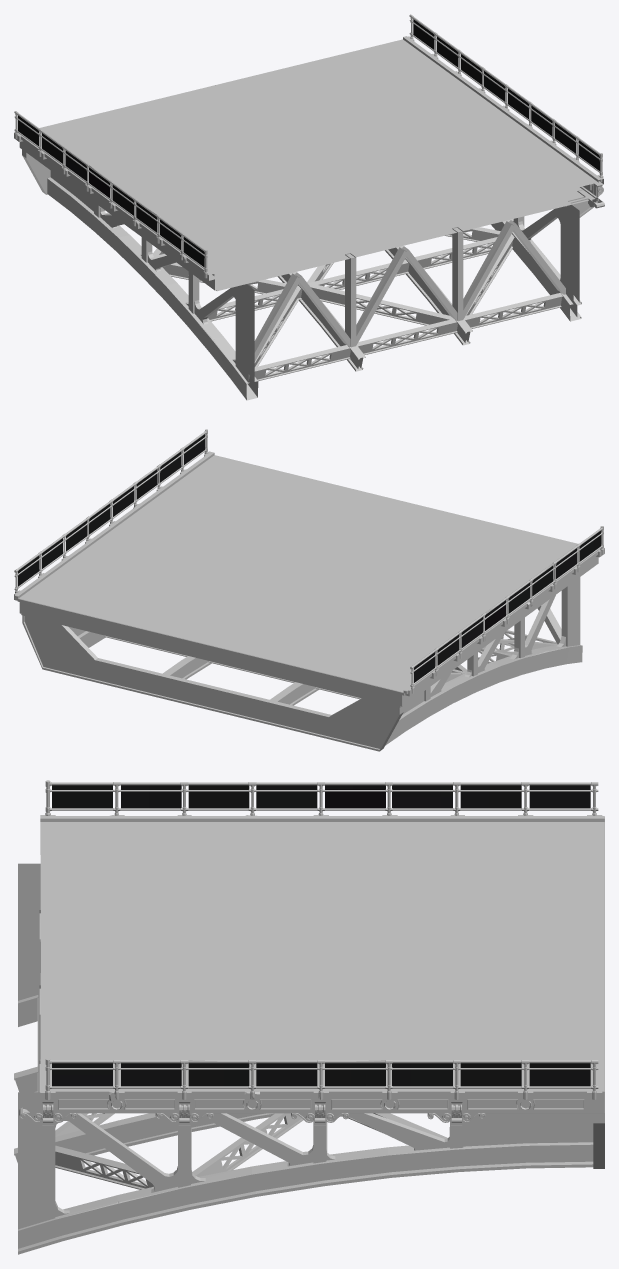
Rendered from Bridge01.fbx.
The picture shows the model from 3 angles, top to bottom: view 1: azimuth 30°, elevation 25°; view 2: azimuth 150°, elevation 25°; view 3: azimuth 270°, elevation 25°; orthographic projection. The views are drawn at different scales.
Visible parts, largest first — view 1: SM_City_Bridge_02.mo; view 2: SM_City_Bridge_02.mo; view 3: SM_City_Bridge_02.mo.
Part boxes in pixels (left/top/right/bottom): SM_City_Bridge_02.mo: left=14, top=14, right=604, bottom=400; SM_City_Bridge_02.mo: left=14, top=429, right=604, bottom=751; SM_City_Bridge_02.mo: left=14, top=780, right=604, bottom=1254.
Size of the model in its own units: 1789 by 645 by 1593.
